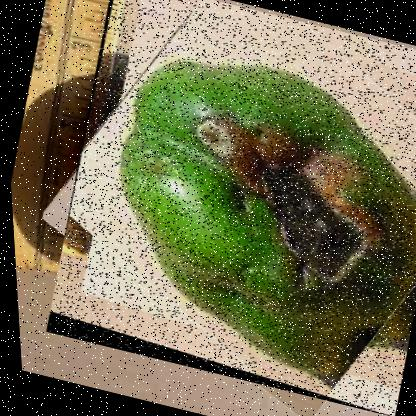capsicum_rotten: (26, 0, 416, 415)
